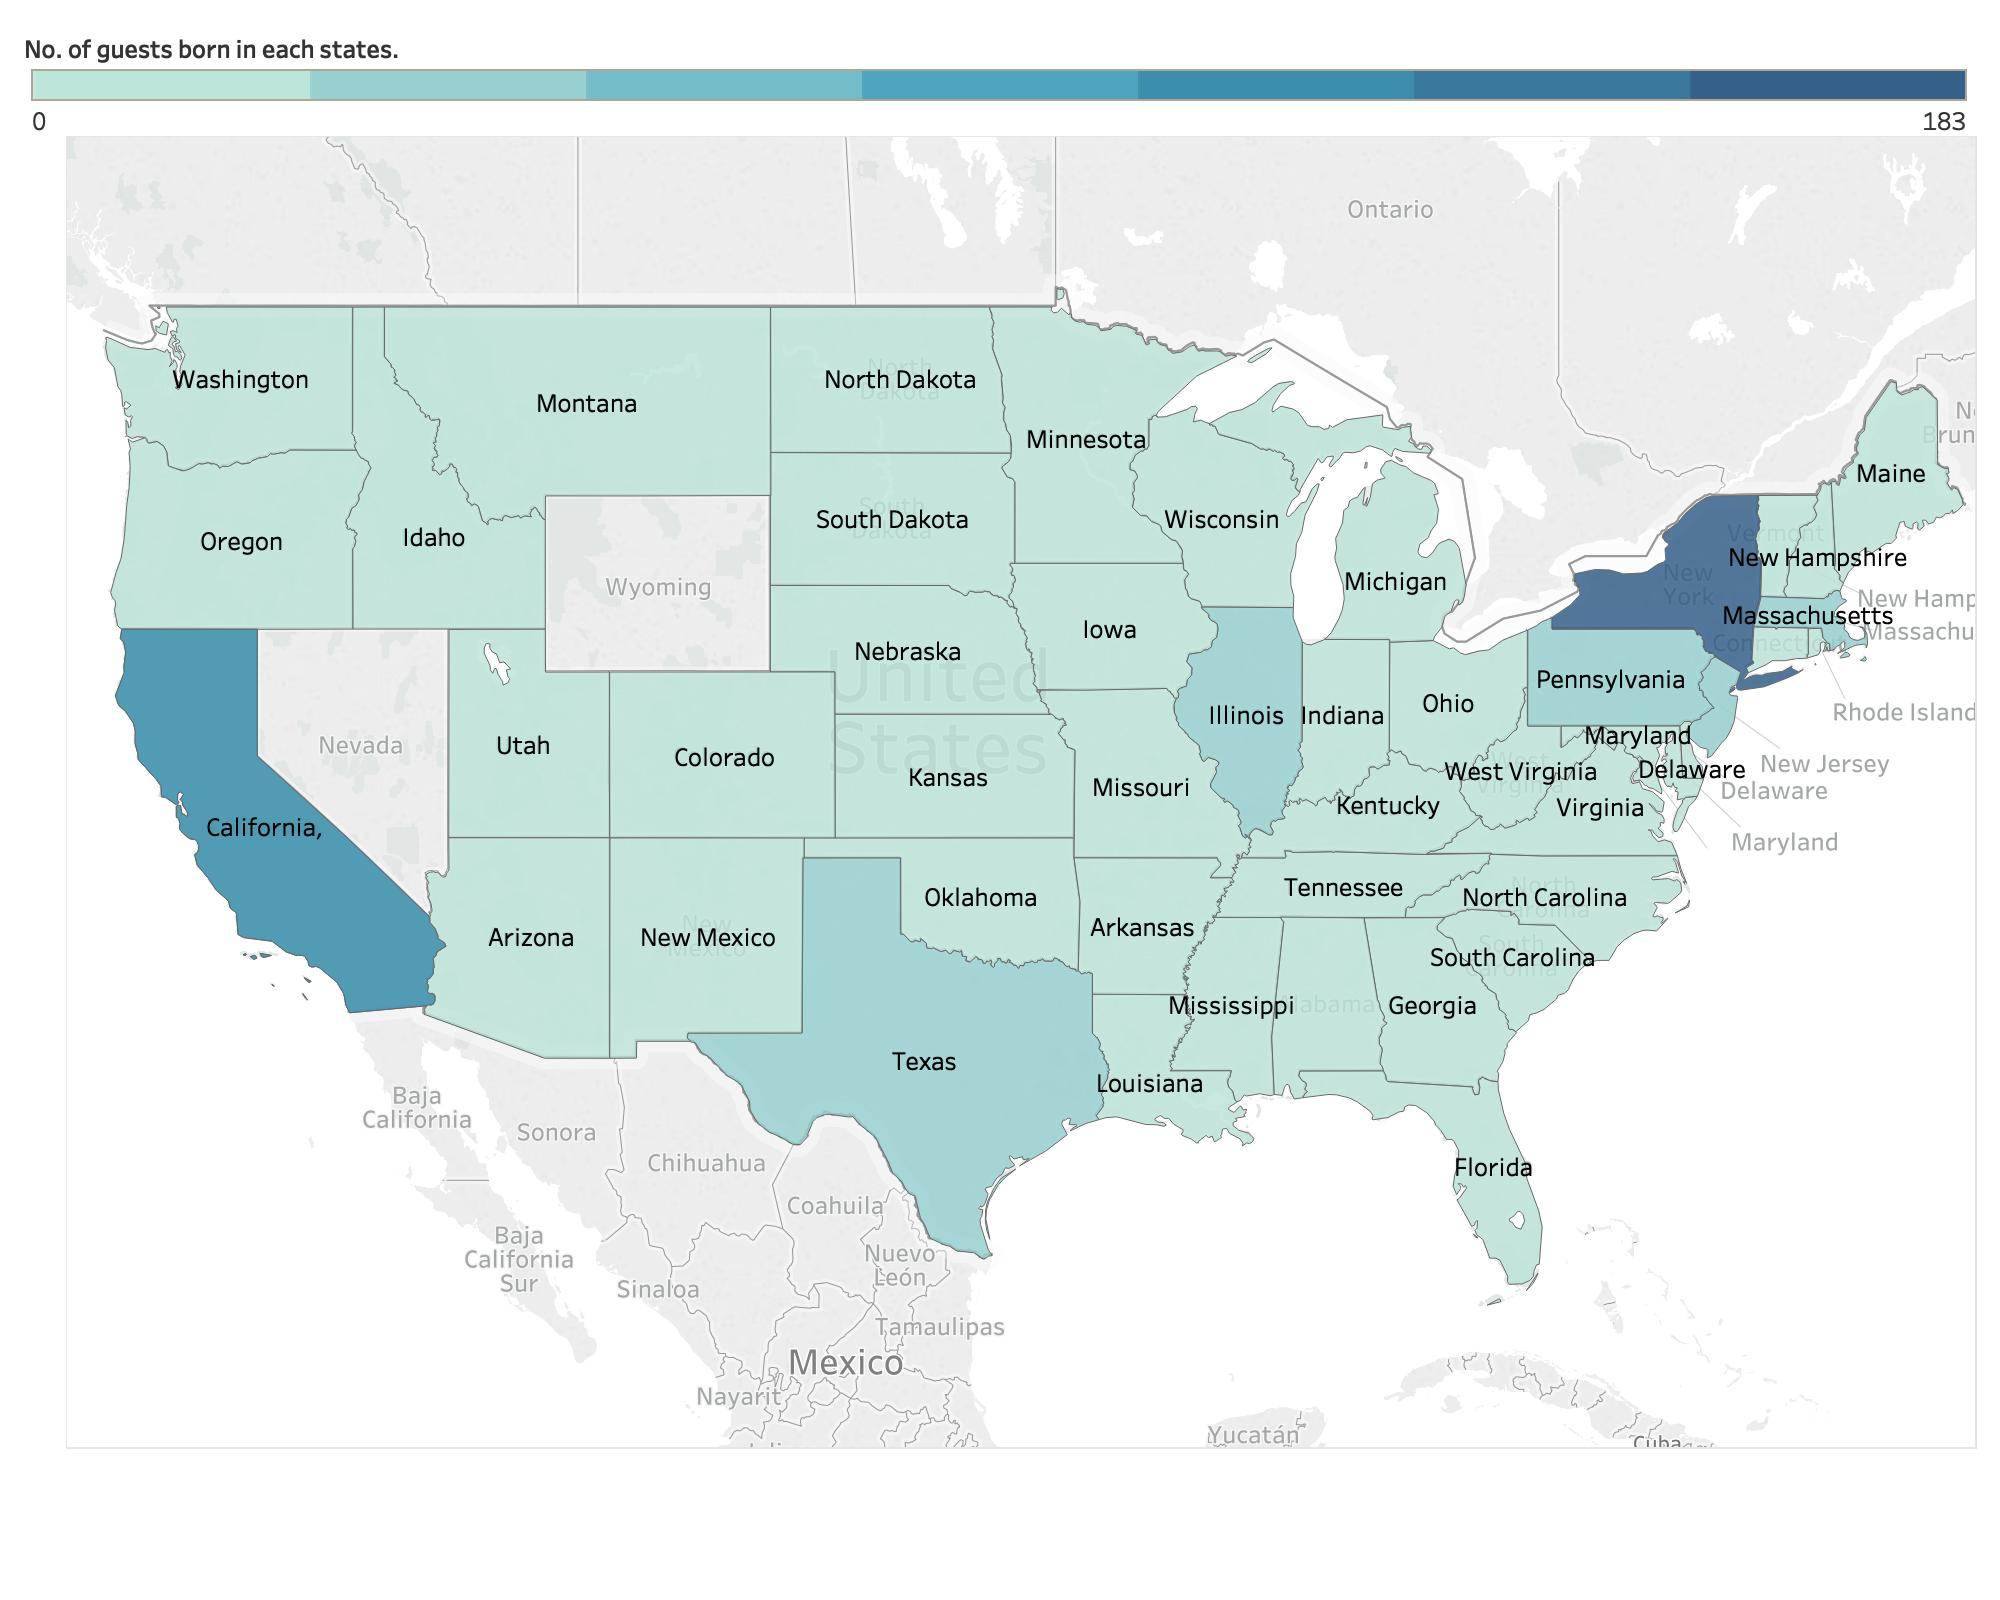

The dashboard page shown, as its layout file describes it:
{"tool":"tableau","page":{"name":"Dashboard 1","canvas":[1000,800],"ordinal":0},"visuals":[{"type":"legend","title":"Sheet 3","param":"[federated.1io6azy1540pe4140pqr30lborf7].[cnt:state_born:qk]","box":[8,8,984,65]},{"type":"worksheet","title":"Sheet 3","mark":"Automatic","box":[33,53,956,672]}]}

Visuals, with their boxes in screenshot pixels (x1, y1, x2, y2), scaled from the page's 1000x800 canvas onto the 2000x1600 screenshot:
"Sheet 3" legend: bbox(16, 16, 1984, 146)
"Sheet 3" worksheet: bbox(66, 106, 1978, 1450)
